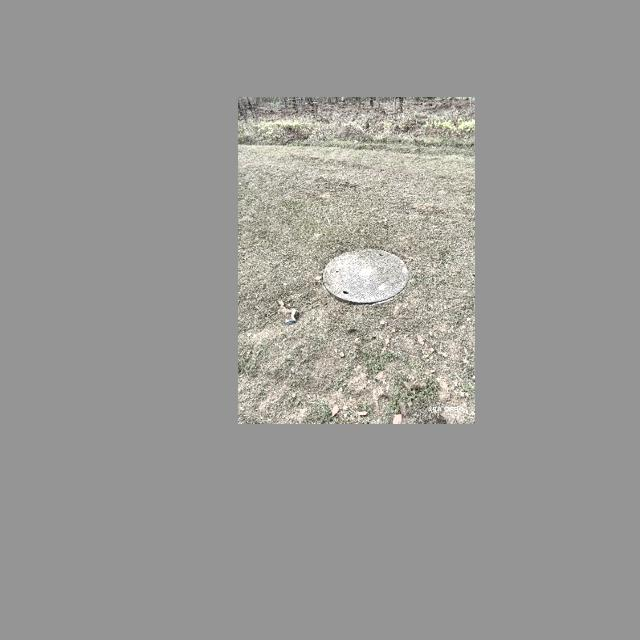good: (324, 247, 410, 302)
